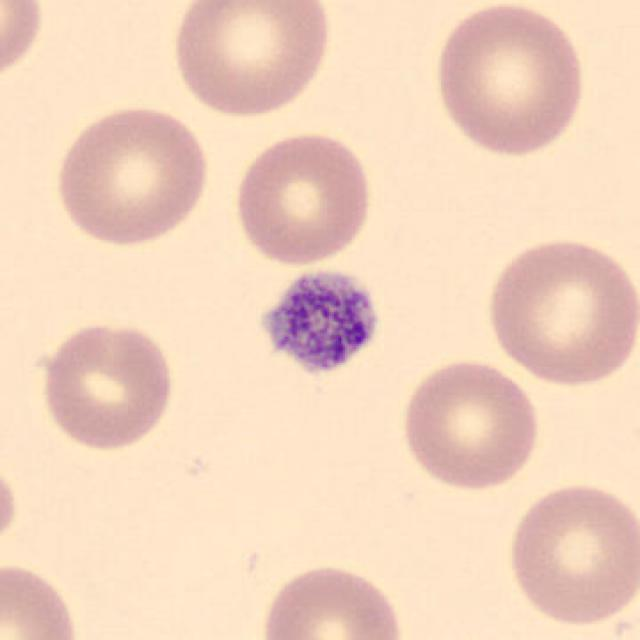Platelets: (248, 260, 385, 392)
RBC: (428, 0, 590, 160), (480, 233, 638, 388), (50, 100, 215, 248), (229, 127, 377, 270), (396, 354, 544, 494), (167, 0, 336, 122), (502, 478, 638, 629), (36, 317, 178, 453), (256, 559, 409, 640), (0, 557, 84, 640), (0, 0, 48, 92), (0, 453, 21, 559)
